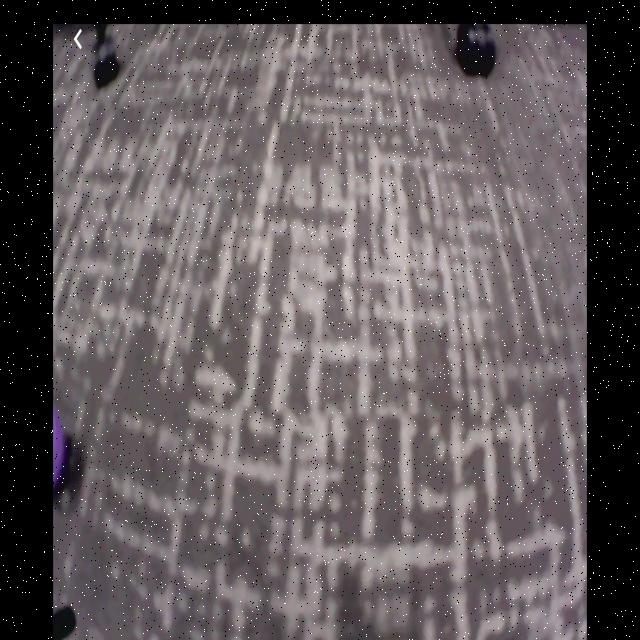ball: (54, 408, 65, 492)
